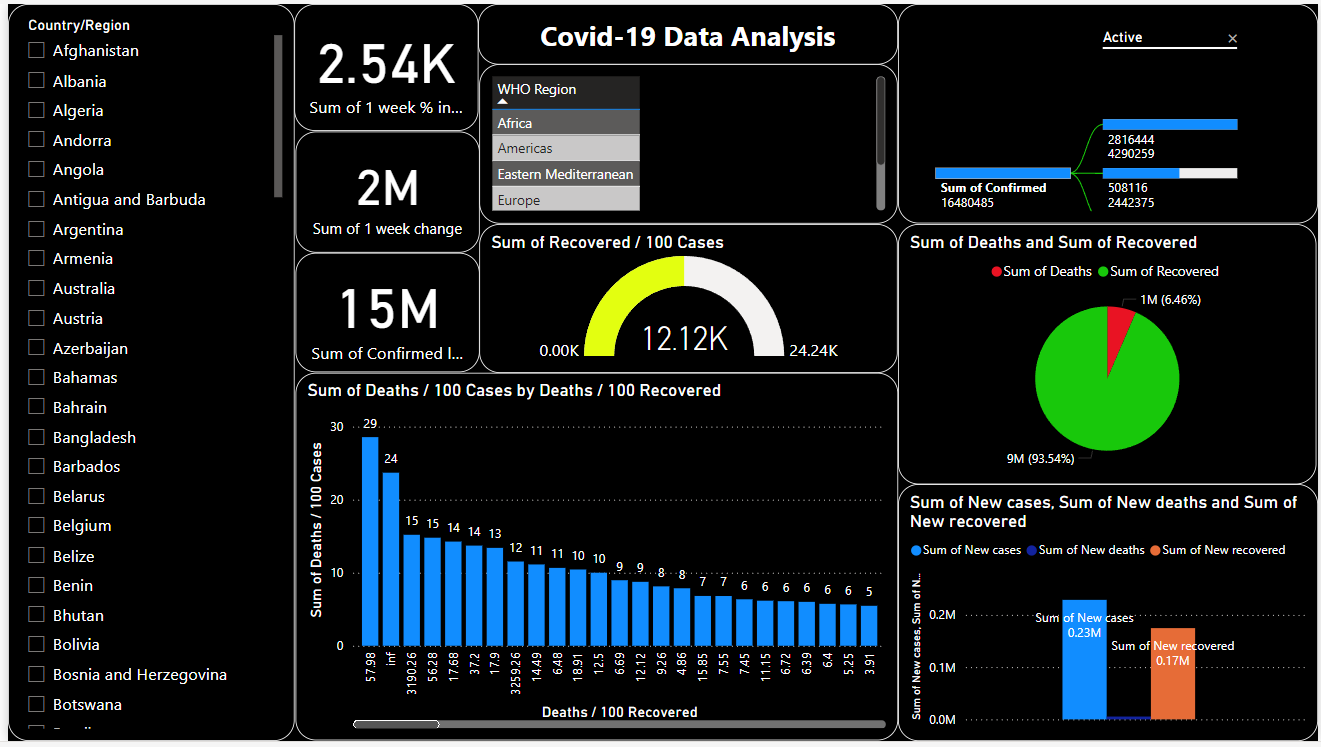

This screenshot's page, from the dashboard's own definition file:
{"tool":"powerbi","page":{"name":"Page 1","canvas":[1280,720],"ordinal":0},"visuals":[{"type":"slicer","fields":{"Values":["country_wise_latest.Country/Region"]},"box":[0,0,279.9,720.2],"z":0},{"type":"textbox","box":[459.7,0,410.2,59.1],"z":1000},{"type":"decompositionTreeVisual","fields":{"Analyze":["Sum(country_wise_latest.Confirmed)"],"ExplainBy":["country_wise_latest.Active"]},"box":[869.8,0,410.2,214.7],"z":2000},{"type":"clusteredColumnChart","fields":{"Y":["Sum(country_wise_latest.New cases)","Sum(country_wise_latest.New deaths)","Sum(country_wise_latest.New recovered)"]},"box":[869.8,469.3,410.2,250.9],"z":3000},{"type":"pieChart","fields":{"Y":["Sum(country_wise_latest.Deaths)","Sum(country_wise_latest.Recovered)"]},"box":[869.8,214.7,409,254.6],"z":4000},{"type":"card","fields":{"Values":["Sum(country_wise_latest.1 week % increase)"]},"box":[279.9,0,179.8,124.3],"z":5000},{"type":"card","fields":{"Values":["Sum(country_wise_latest.1 week change)"]},"box":[281.1,124.3,179.8,118.2],"z":5001},{"type":"card","fields":{"Values":["Sum(country_wise_latest.Confirmed last week)"]},"box":[281.1,242.5,179.8,117],"z":5002},{"type":"clusteredColumnChart","fields":{"Y":["Sum(country_wise_latest.Deaths / 100 Cases)"],"Category":["country_wise_latest.Deaths / 100 Recovered"]},"box":[281.1,360.7,588.7,359.5],"z":5003},{"type":"gauge","fields":{"Y":["Sum(country_wise_latest.Recovered / 100 Cases)"]},"box":[460.9,214.7,409,146],"z":5004},{"type":"tableEx","fields":{"Values":["country_wise_latest.WHO Region"]},"box":[460.9,59.1,409,155.6],"z":5005}]}

Visuals, with their boxes in screenshot pixels (x1, y1, x2, y2), scaled from the page's 1280x720 canvas onto the 1321x747 screenshot:
slicer - country_wise_latest.Country/Region: left=0, top=0, right=289, bottom=746
textbox: left=474, top=0, right=898, bottom=61
decompositionTreeVisual - Sum(country_wise_latest.Confirmed) x country_wise_latest.Active: left=898, top=0, right=1320, bottom=223
clusteredColumnChart - Sum(country_wise_latest.New cases) x Sum(country_wise_latest.New deaths): left=898, top=487, right=1320, bottom=746
pieChart - Sum(country_wise_latest.Deaths) x Sum(country_wise_latest.Recovered): left=898, top=223, right=1320, bottom=487
card - Sum(country_wise_latest.1 week % increase): left=289, top=0, right=474, bottom=129
card - Sum(country_wise_latest.1 week change): left=290, top=129, right=476, bottom=252
card - Sum(country_wise_latest.Confirmed last week): left=290, top=252, right=476, bottom=373
clusteredColumnChart - Sum(country_wise_latest.Deaths / 100 Cases) x country_wise_latest.Deaths / 100 Recovered: left=290, top=374, right=898, bottom=746
gauge - Sum(country_wise_latest.Recovered / 100 Cases): left=476, top=223, right=898, bottom=374
tableEx - country_wise_latest.WHO Region: left=476, top=61, right=898, bottom=223
